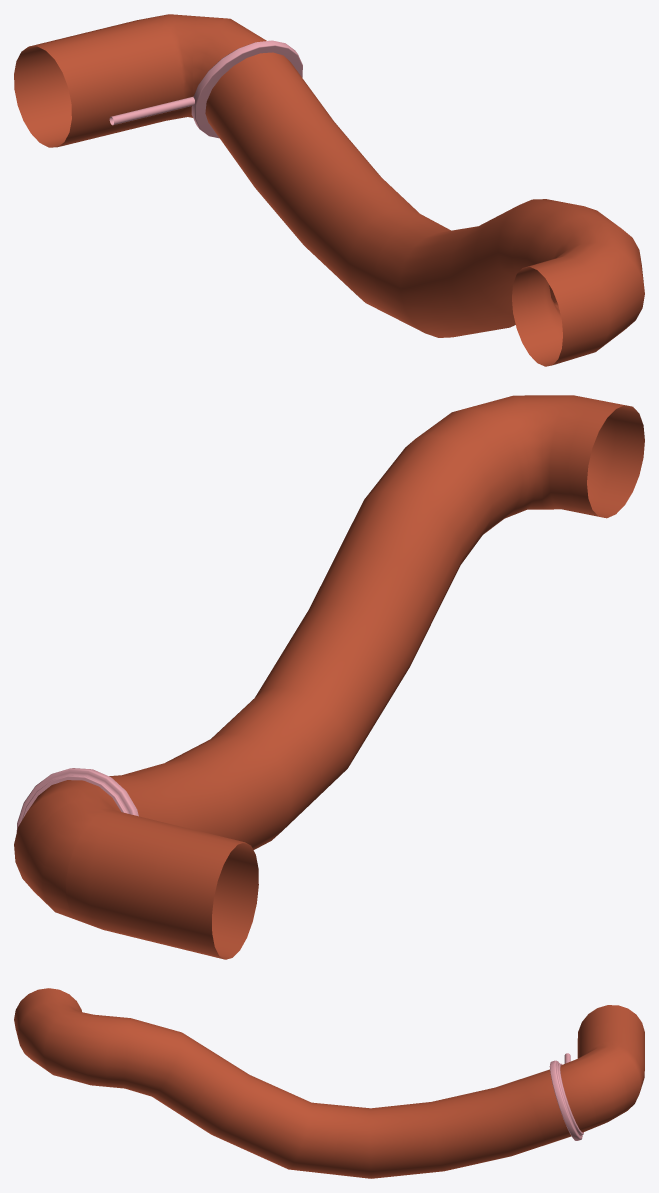
Rendered from SM_Câble_LienMur.fbx.
The picture shows the model from 3 angles, top to bottom: view 1: azimuth 30°, elevation 25°; view 2: azimuth 150°, elevation 25°; view 3: azimuth 270°, elevation 25°; orthographic projection. The views are drawn at different scales.
Visible parts, largest first — view 1: Câble_Mur; view 2: Câble_Mur; view 3: Câble_Mur.
Boxes of the visible parts, x1,y1,x2,y2 form: Câble_Mur: (14, 14, 644, 366); Câble_Mur: (14, 395, 644, 959); Câble_Mur: (14, 988, 644, 1178).
Bounding box in the file's own units: 5.15 × 5.01 × 18.16.
